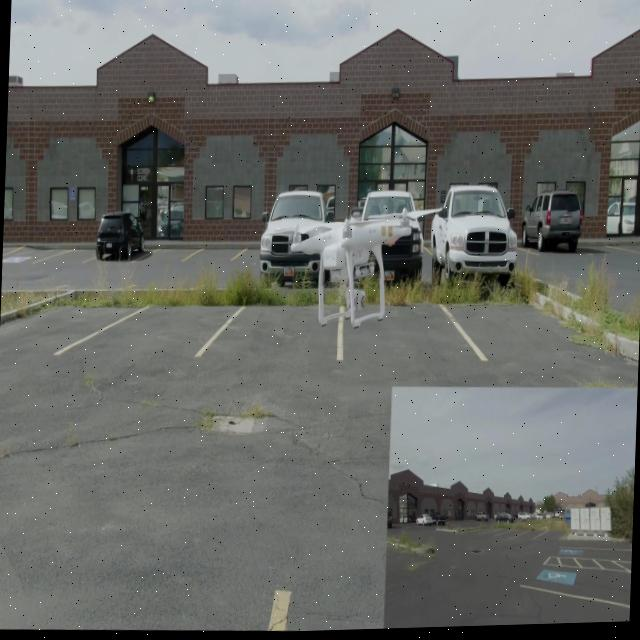drone: (284, 206, 420, 335)
